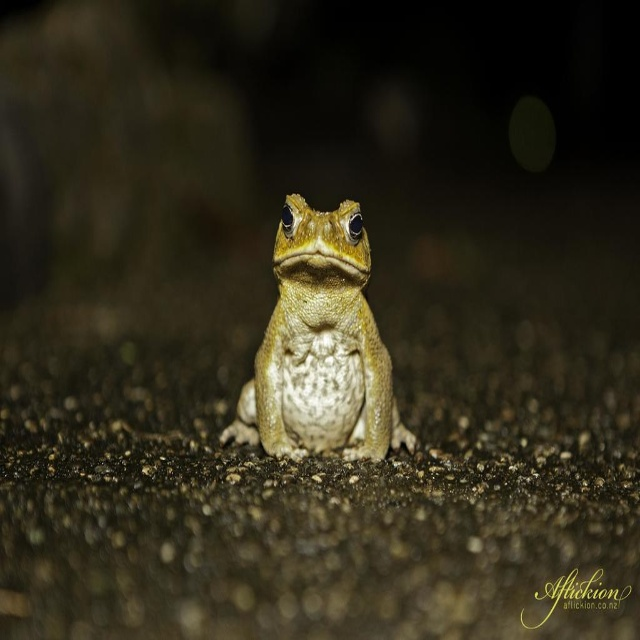Frog: (223, 192, 418, 466)
